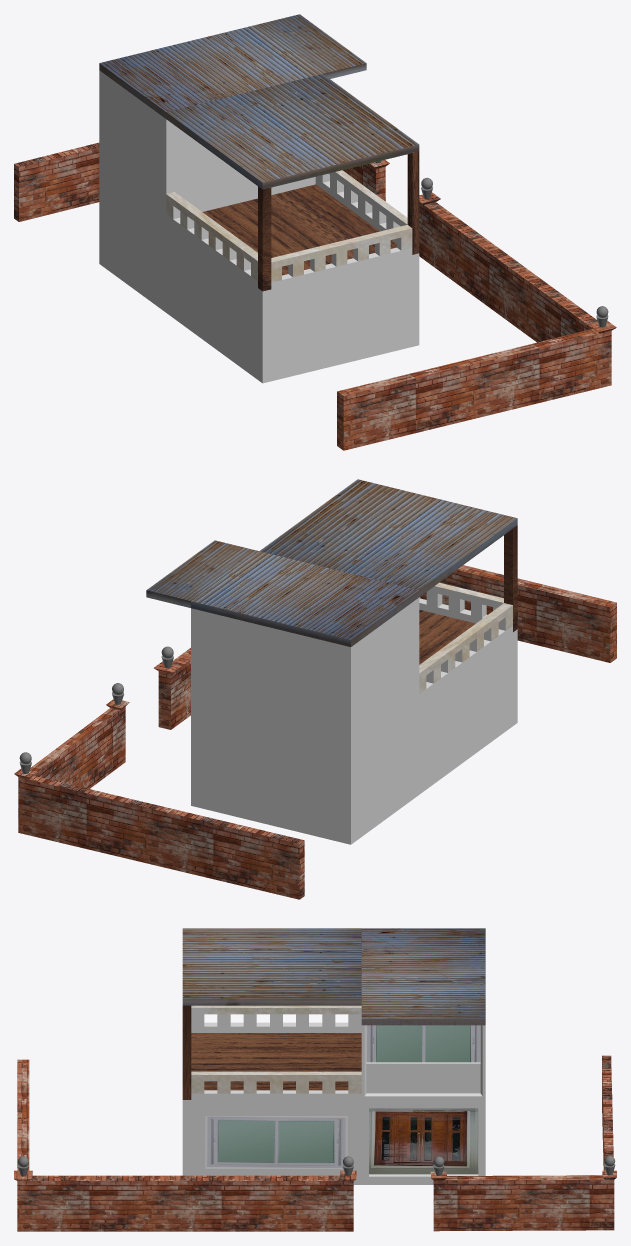
Rendered from Home_2.fbx.
3 renders of one model, top to bottom at view 1: azimuth 30°, elevation 25°; view 2: azimuth 150°, elevation 25°; view 3: azimuth 270°, elevation 25°, orthographic. The views are drawn at different scales.
Visible parts, largest first — view 1: Cube, ลูกบาศก์, ลูกบาศก์.001; view 2: Cube, ลูกบาศก์.001, ลูกบาศก์; view 3: Cube, ลูกบาศก์, ลูกบาศก์.001.
Part boxes in pixels (left/top/right/bottom): Cube: left=99, top=14, right=419, bottom=383; ลูกบาศก์: left=337, top=192, right=616, bottom=450; ลูกบาศก์.001: left=14, top=142, right=389, bottom=221; Cube: left=146, top=479, right=517, bottom=844; ลูกบาศก์.001: left=14, top=699, right=304, bottom=899; ลูกบาศก์: left=154, top=565, right=616, bottom=729; Cube: left=182, top=928, right=485, bottom=1184; ลูกบาศก์: left=14, top=1059, right=356, bottom=1231; ลูกบาศก์.001: left=430, top=1055, right=616, bottom=1231.
Bounding box in the file's own units: 811 × 554 × 1627.
Materials: 9 (7 with a texture image).
